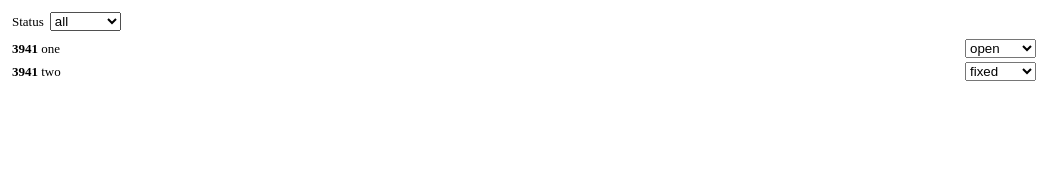
Test case: DefectList › filters by status
The image size is (1048, 172).
Select "fixed" in the dropdown labelled "Status" at (85, 22), box [50,12,121,31]
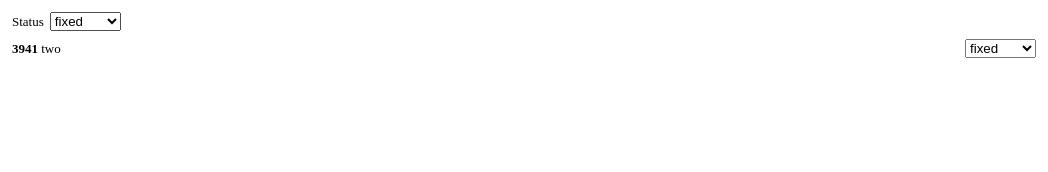
Expected: the button "3941 two" is shown, [12,40,61,56]
Expected: the button "one" is gone
